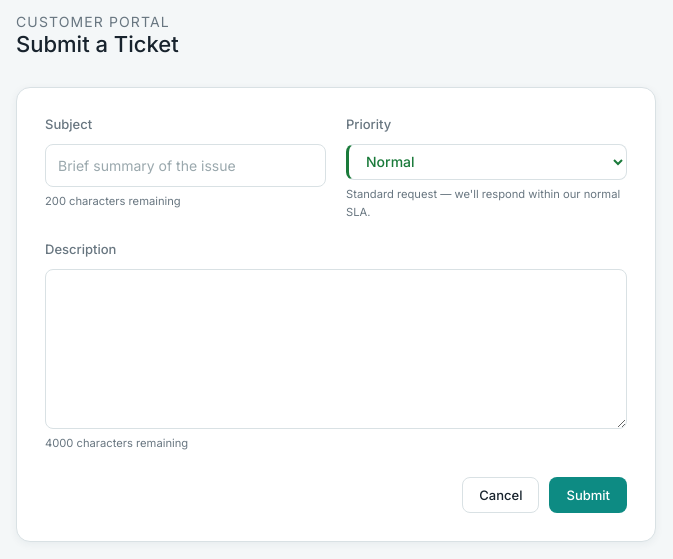
PortalTicketCreateView › shows a required error when the subject is empty
In the text box labelled "Description": point(336, 349) [45, 269, 627, 429], type "Some description"
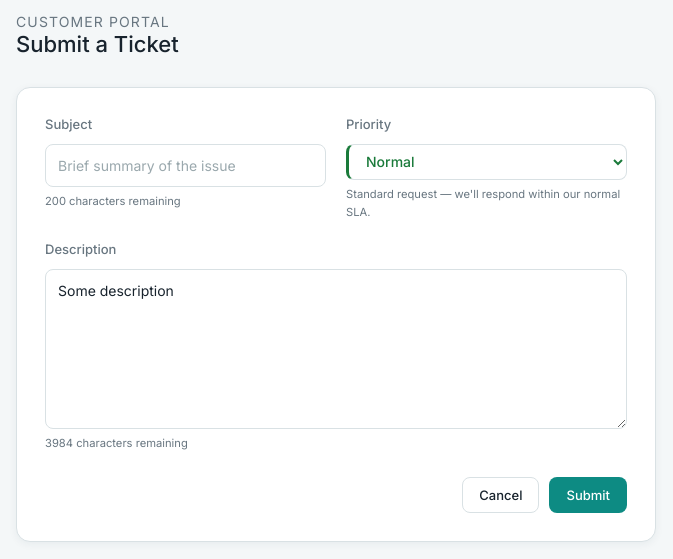
Submit the form
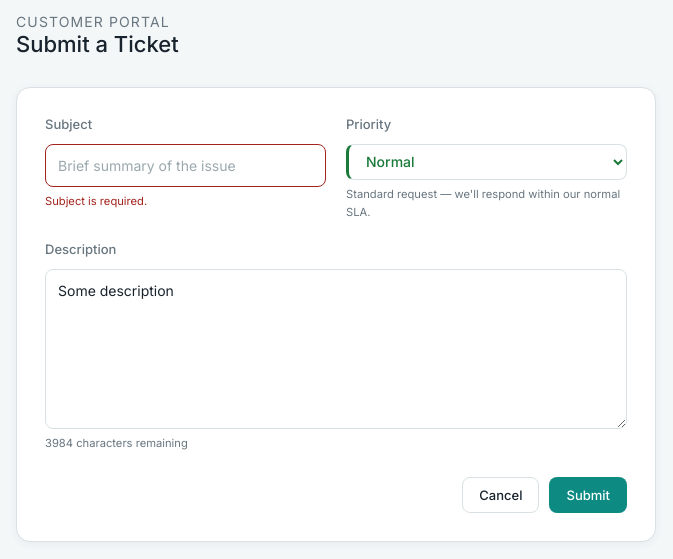
Result: the message "Subject is required." is shown at [45, 194, 147, 208]
